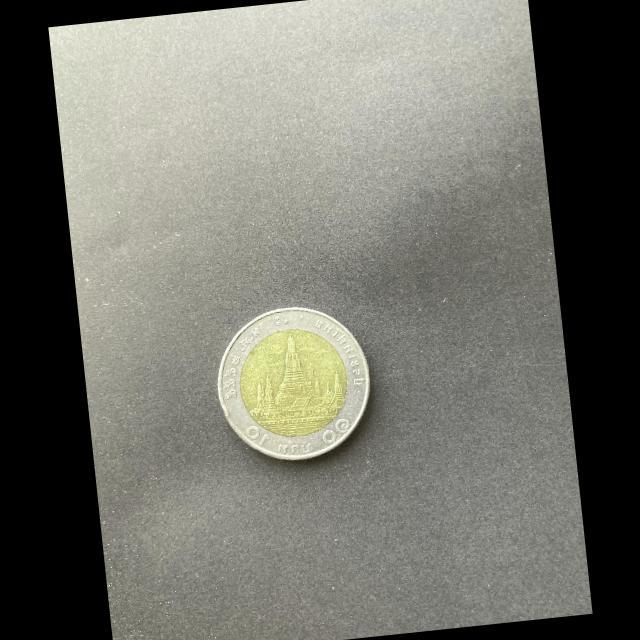10 Bath: (216, 305, 374, 466)
